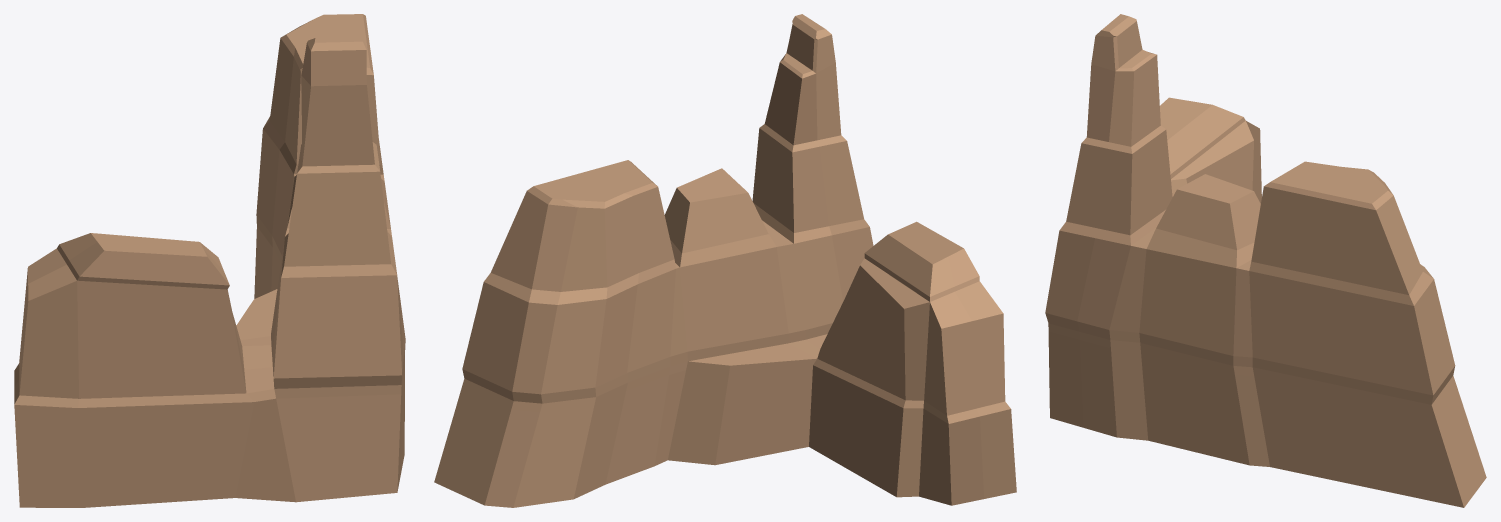
Rendered from big_rock_1.fbx.
3 renders of one model, left to right at view 1: azimuth 30°, elevation 25°; view 2: azimuth 150°, elevation 25°; view 3: azimuth 270°, elevation 25°, orthographic. The views are drawn at different scales.
Visible parts, largest first — view 1: Cube.001; view 2: Cube.001; view 3: Cube.001.
Part boxes in pixels (x1,y1,x2,y2): Cube.001: [14, 14, 405, 507]; Cube.001: [434, 14, 1016, 507]; Cube.001: [1045, 14, 1486, 507].
Size of the model in its own units: 1.51 by 1.23 by 1.28.
